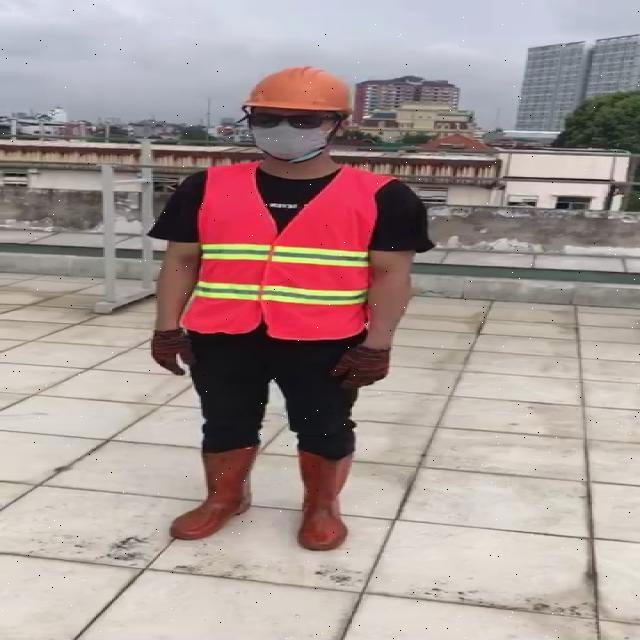Hard_hat: (234, 61, 357, 125)
Person: (143, 48, 441, 636)
Vest: (189, 157, 376, 341)
